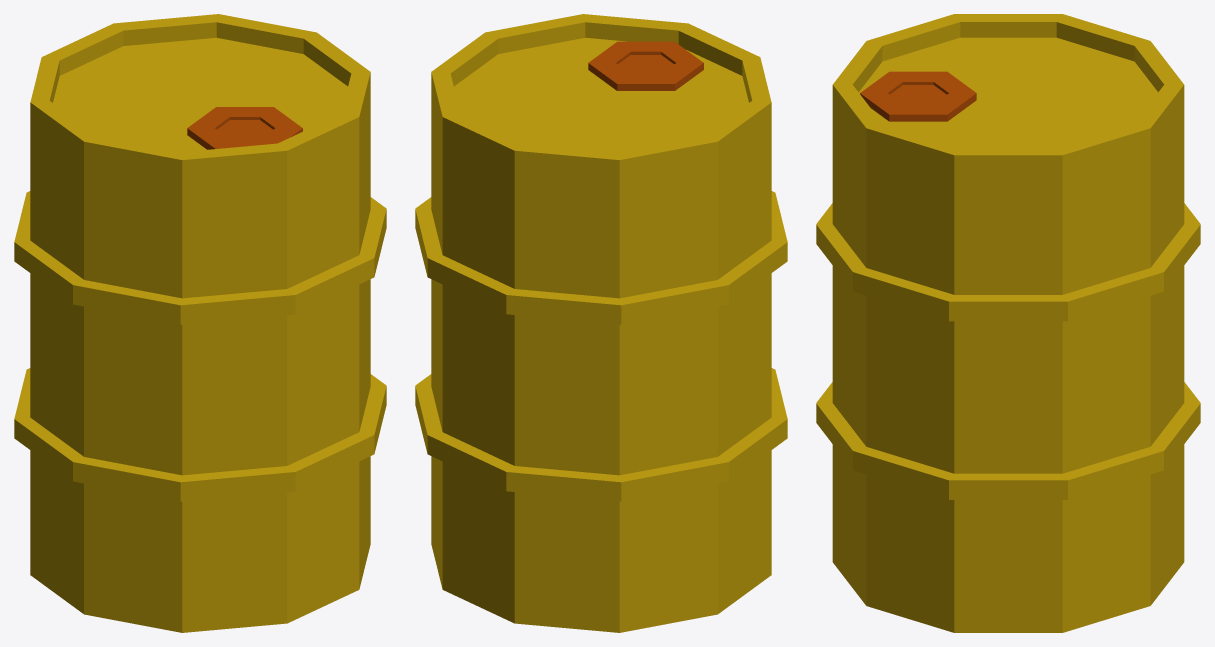
The model's file is oil drum.fbx.
3 views of the same model, side by side, from view 1: azimuth 30°, elevation 25°; view 2: azimuth 150°, elevation 25°; view 3: azimuth 270°, elevation 25° (orthographic).
Parts seen in each view (by area): view 1: Mesh; view 2: Mesh; view 3: Mesh.
Part boxes in pixels (<box>): Mesh: <box>14,14,386,632</box>; Mesh: <box>415,14,787,632</box>; Mesh: <box>816,14,1200,632</box>.
Size of the model in its own units: 3.26 by 4.7 by 3.43.
